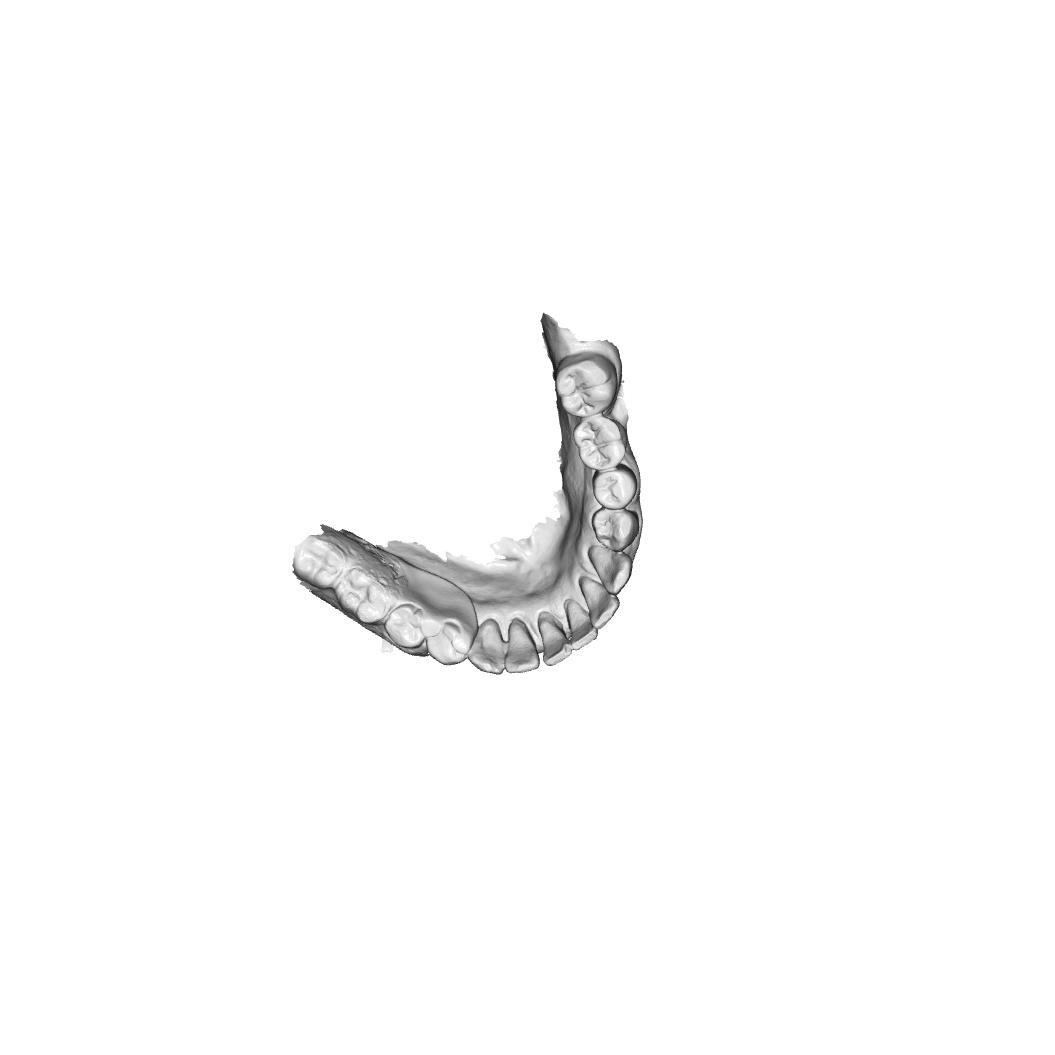canine: (587, 545, 633, 596), (467, 618, 505, 676)
incisor: (578, 574, 621, 631), (504, 617, 541, 675), (537, 616, 573, 667), (565, 599, 599, 652)
molar: (554, 352, 619, 417), (336, 566, 392, 626), (572, 413, 628, 472), (293, 534, 348, 591)
premolar: (426, 610, 474, 666), (591, 506, 641, 553), (591, 466, 638, 510), (383, 603, 426, 651)
